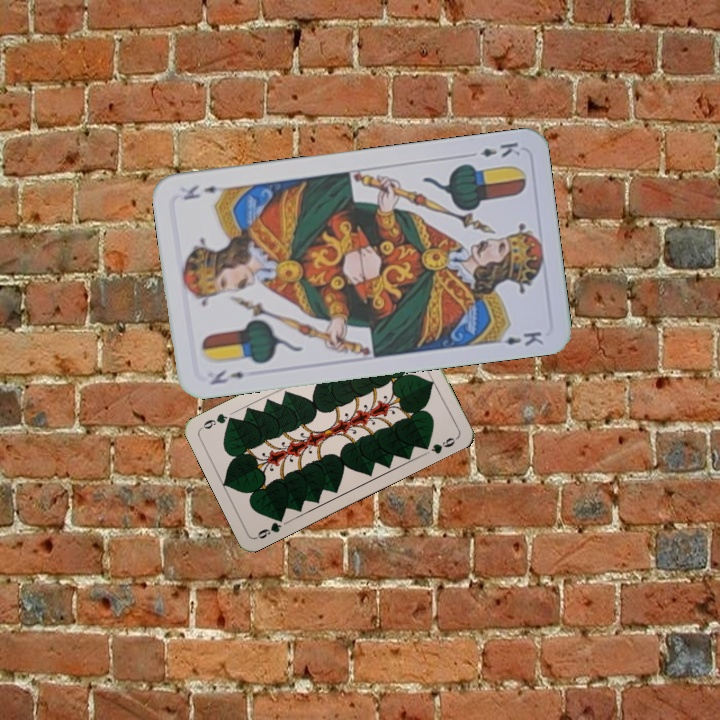EK: (476, 138, 523, 160), (206, 366, 247, 388)
G9: (252, 511, 287, 541)
